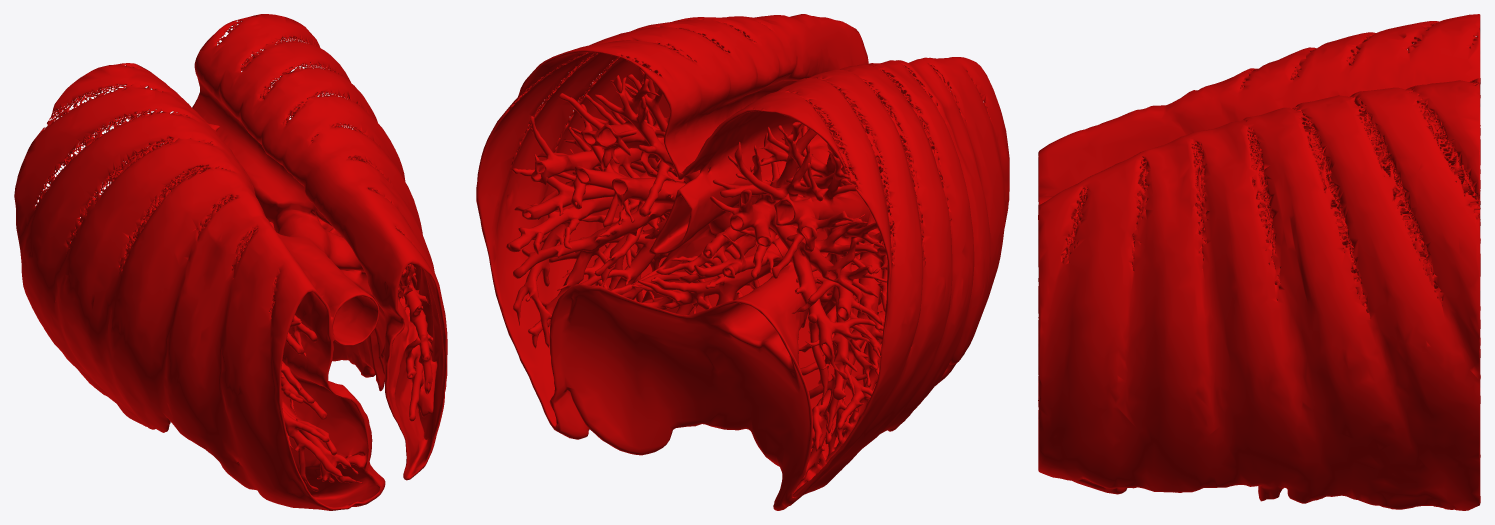
File: Doglung.glb
3 renders of one model, left to right at view 1: azimuth 30°, elevation 25°; view 2: azimuth 150°, elevation 25°; view 3: azimuth 270°, elevation 25°, orthographic. The views are drawn at different scales.
Visible parts, largest first — view 1: CanineLungs; view 2: CanineLungs; view 3: CanineLungs.
Boxes of the visible parts, x1,y1,x2,y2 form: CanineLungs: [14, 14, 447, 510]; CanineLungs: [476, 14, 1009, 510]; CanineLungs: [1038, 14, 1480, 510].
Size of the model in its own units: 0.9477 by 0.9553 by 0.8701.
